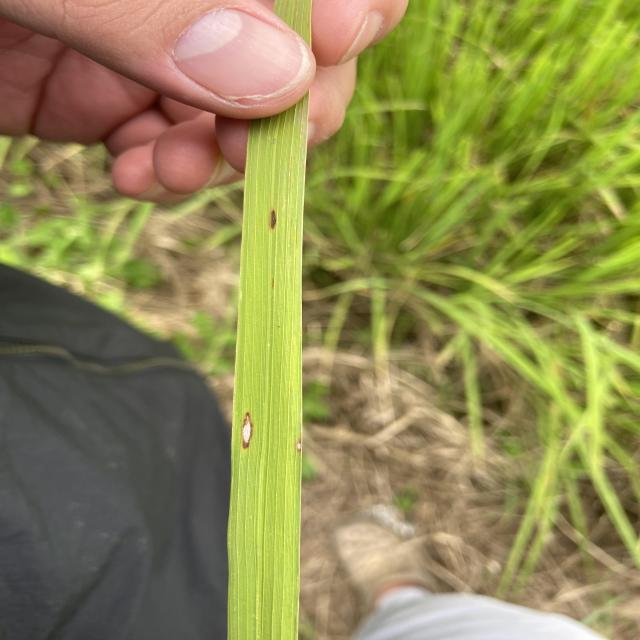Dao on: (241, 411, 253, 449), (295, 430, 302, 453)
